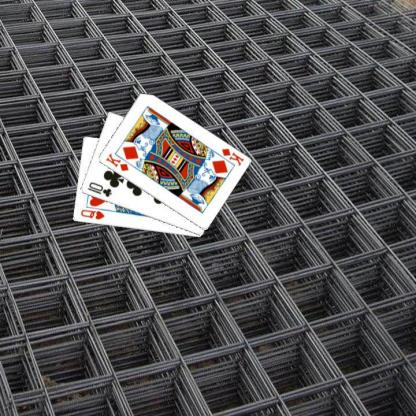10C: (85, 180, 113, 198)
KD: (103, 151, 129, 172), (219, 146, 245, 167)
QH: (78, 207, 105, 221)
